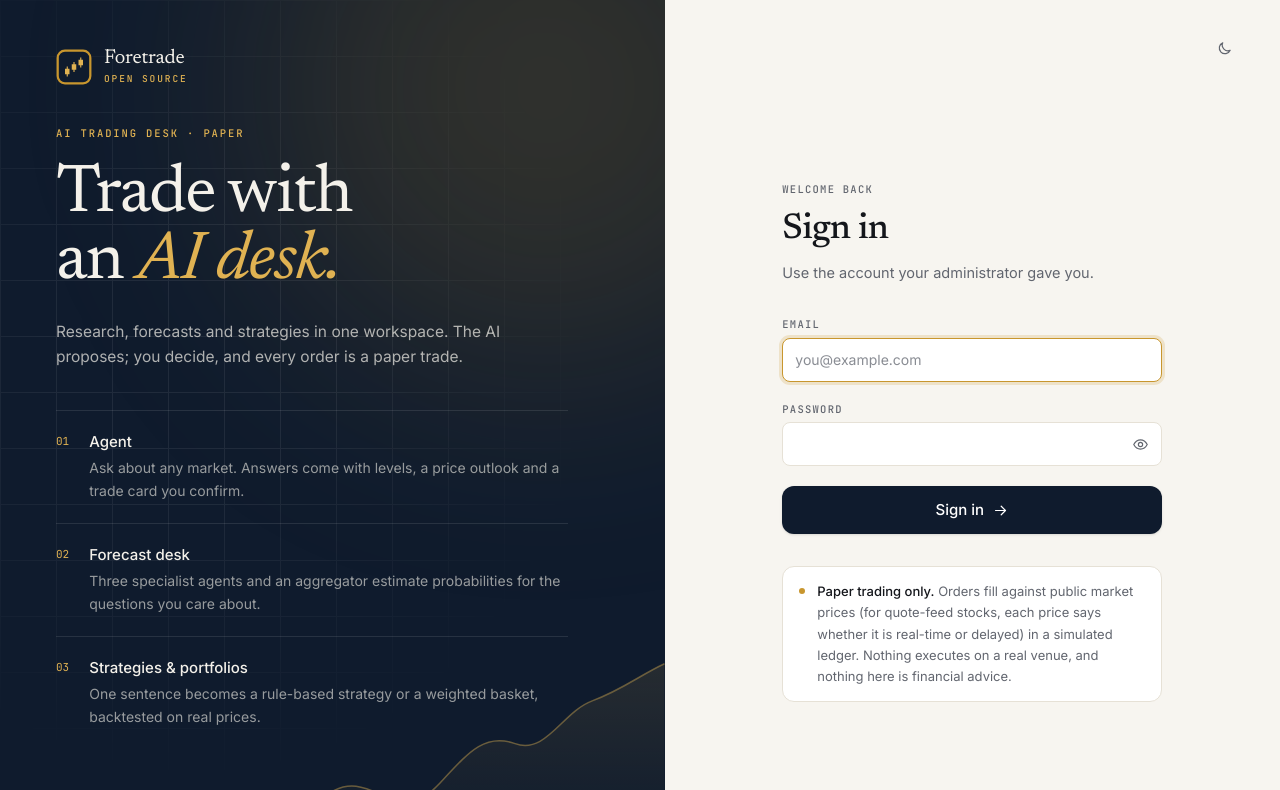
it: LoginPage › shows an inline error for {"name":"ApiError","status":403,"code":"forbidden"}
Type "demo@example.com" into the field labelled "Email".
click(972, 360); type("demo@example.com")  # box x1=782 y1=338 x2=1162 y2=382
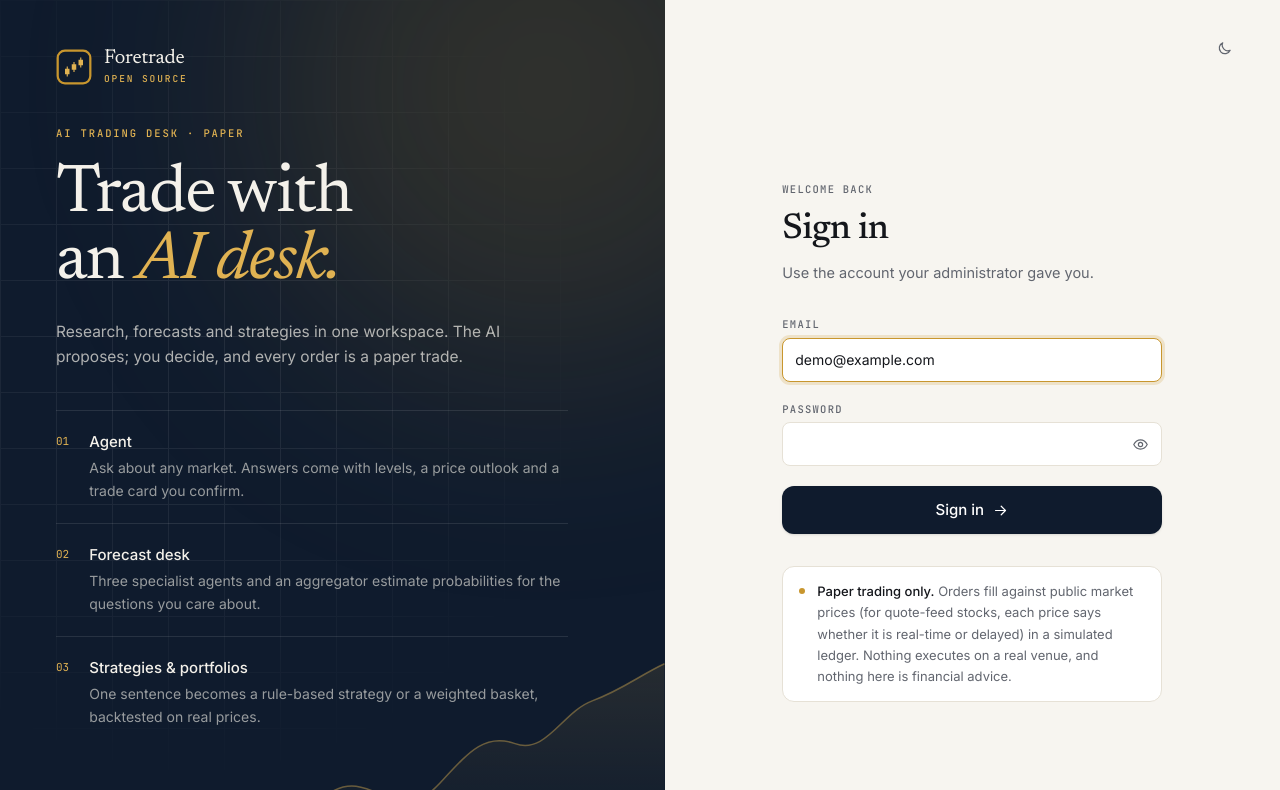
Type "localdemo" into the password field labelled "Password".
click(972, 444); type("localdemo")  # box x1=782 y1=422 x2=1162 y2=466
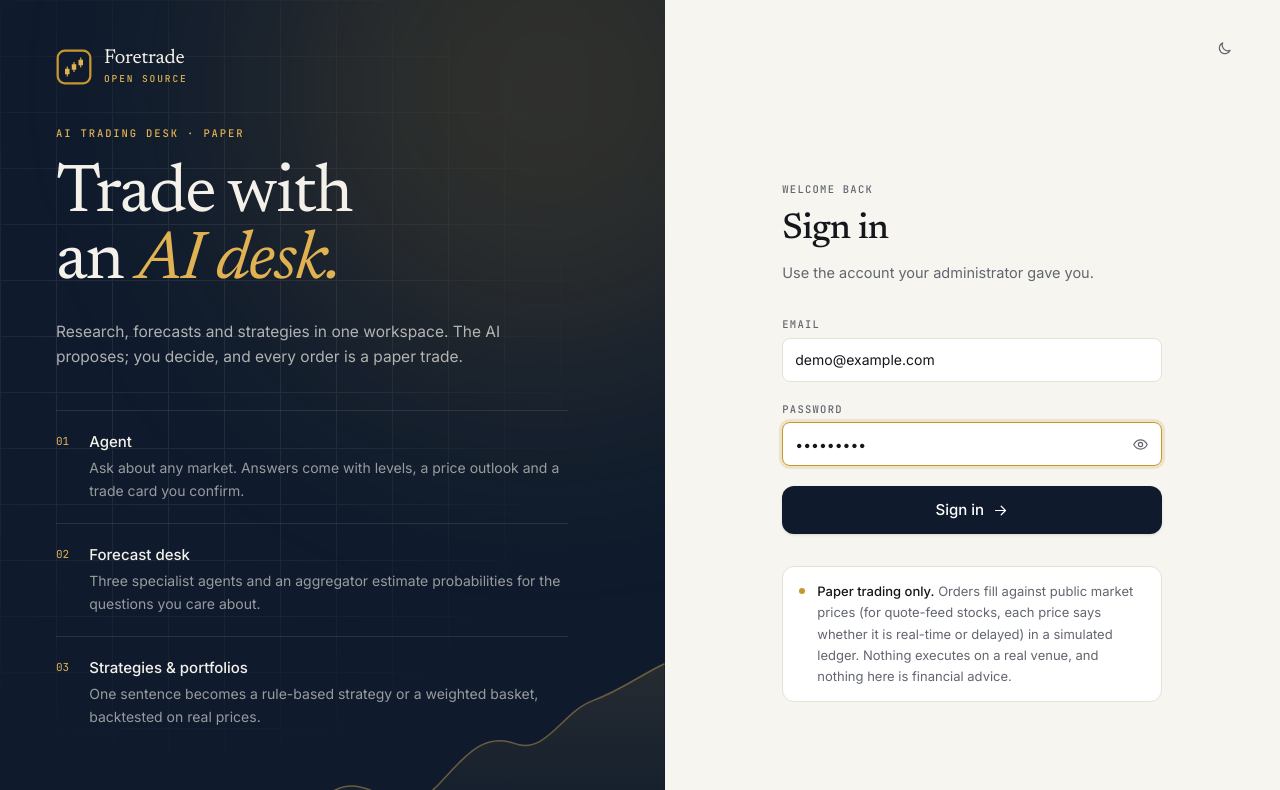
Click the button "Sign in".
click(972, 510)  # box x1=782 y1=486 x2=1162 y2=534
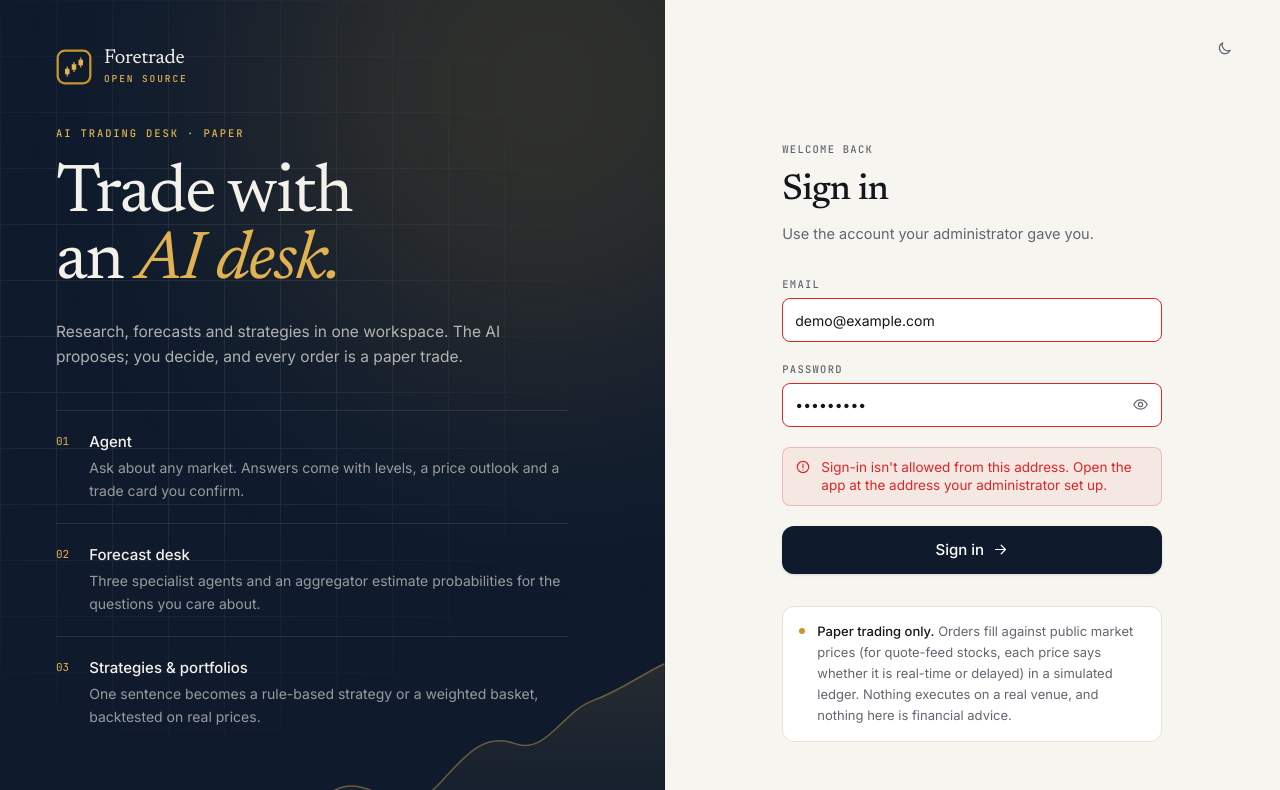
Expected: the button "Sign in" is enabled, x1=782 y1=526 x2=1162 y2=574
Result: the message shows "Sign-in isn't allowed from this address. Open the app at the address your administrator set up." at x1=821 y1=459 x2=1132 y2=493
